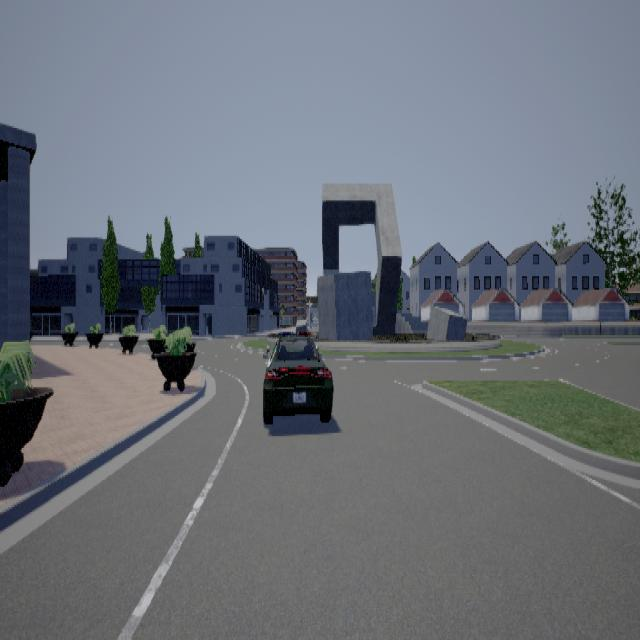vehicle: (264, 330, 335, 423)
